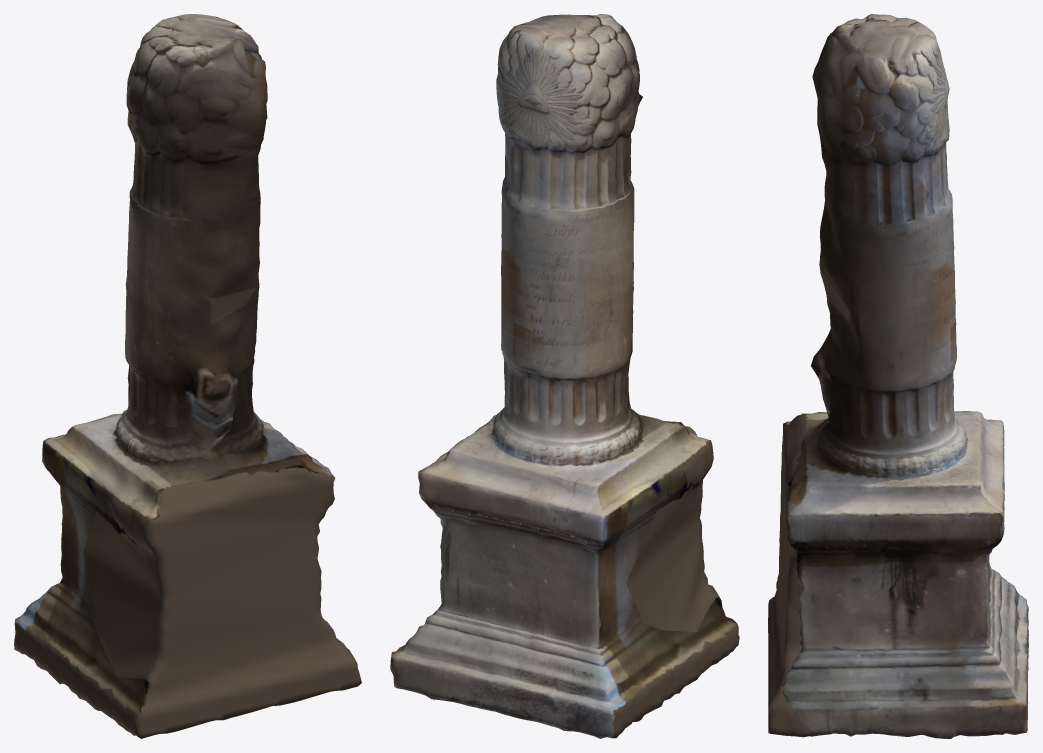
File: Luthersaeule.fbx
3 views of the same model, side by side, from view 1: azimuth 30°, elevation 25°; view 2: azimuth 150°, elevation 25°; view 3: azimuth 270°, elevation 25° (orthographic).
Visible parts, largest first — view 1: LuthersaeuleWIP; view 2: LuthersaeuleWIP; view 3: LuthersaeuleWIP.
Boxes of the visible parts, <box> form: LuthersaeuleWIP: <box>14,14,361,738</box>; LuthersaeuleWIP: <box>390,14,739,738</box>; LuthersaeuleWIP: <box>768,14,1028,738</box>.
Bounding box in the file's own units: 164 × 440 × 159.
1 material, 1 textured.
